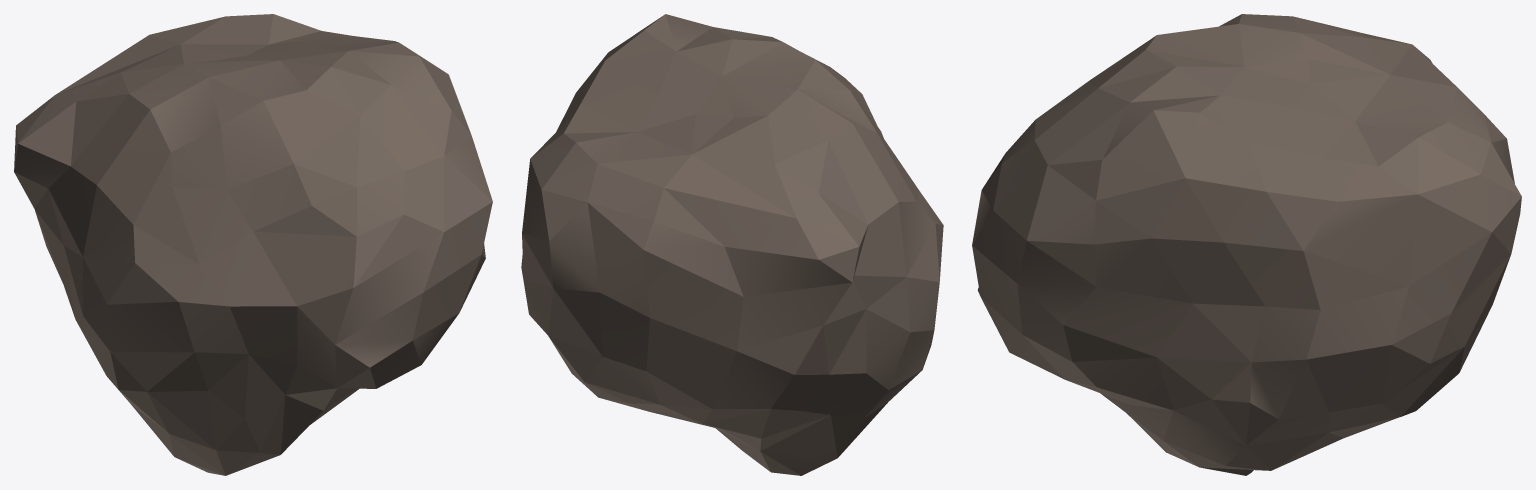
File: Asteroid9.fbx
3 renders of one model, left to right at view 1: azimuth 30°, elevation 25°; view 2: azimuth 150°, elevation 25°; view 3: azimuth 270°, elevation 25°, orthographic. The views are drawn at different scales.
Parts seen in each view (by area): view 1: Asteroid9; view 2: Asteroid9; view 3: Asteroid9.
Boxes of the visible parts, x1,y1,x2,y2 form: Asteroid9: (14, 14, 492, 475); Asteroid9: (521, 14, 943, 475); Asteroid9: (972, 14, 1521, 475).
Size of the model in its own units: 60.24 by 65.72 by 72.86.
